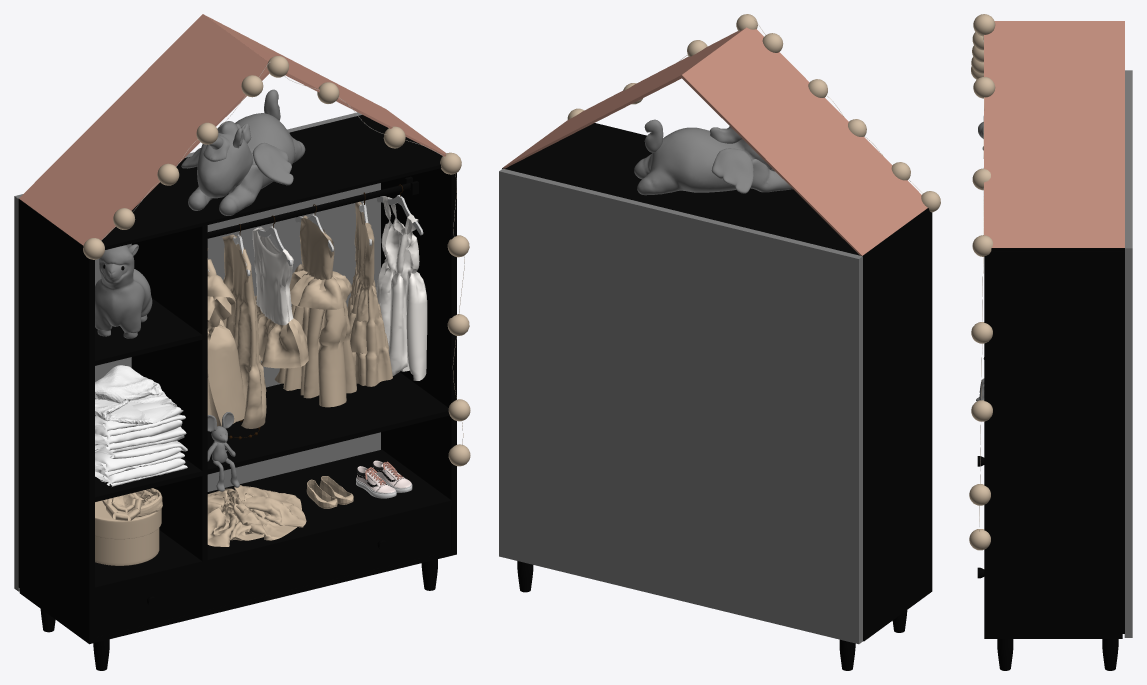
Rendered from Wardrobe_for_girl_vray.fbx.
The picture shows the model from 3 angles, left to right: view 1: azimuth 30°, elevation 25°; view 2: azimuth 150°, elevation 25°; view 3: azimuth 270°, elevation 25°; orthographic projection.
Parts seen in each view (by area): view 1: Object006, Object025, dress4, Onehorn, dress6, linens2, Sphere032, dress3, dress5, dress7, dress2, dress1 (+7 smaller); view 2: Object025, Object006, Onehorn, Sphere032; view 3: Object006, Object025, Sphere032.
Part boxes in pixels (x1=…): Object006: x1=18, y1=14, x2=456, y2=670; Object025: x1=14, y1=112, x2=380, y2=591; dress4: x1=274, y1=215, x2=356, y2=407; Onehorn: x1=181, y1=89, x2=305, y2=215; dress6: x1=376, y1=196, x2=427, y2=380; linens2: x1=95, y1=402, x2=187, y2=486; Sphere032: x1=83, y1=56, x2=470, y2=466; dress3: x1=252, y1=227, x2=308, y2=368; dress5: x1=347, y1=201, x2=392, y2=386; dress7: x1=207, y1=485, x2=306, y2=546; dress2: x1=222, y1=234, x2=266, y2=428; dress1: x1=207, y1=248, x2=245, y2=426; Object025: x1=499, y1=168, x2=862, y2=644; Object006: x1=502, y1=27, x2=932, y2=670; Onehorn: x1=634, y1=119, x2=792, y2=195; Sphere032: x1=567, y1=14, x2=940, y2=212; Object006: x1=977, y1=21, x2=1124, y2=670; Object025: x1=1124, y1=70, x2=1132, y2=637; Sphere032: x1=969, y1=14, x2=995, y2=550.
Bounding box in the file's own units: 103 × 148 × 38.21.
